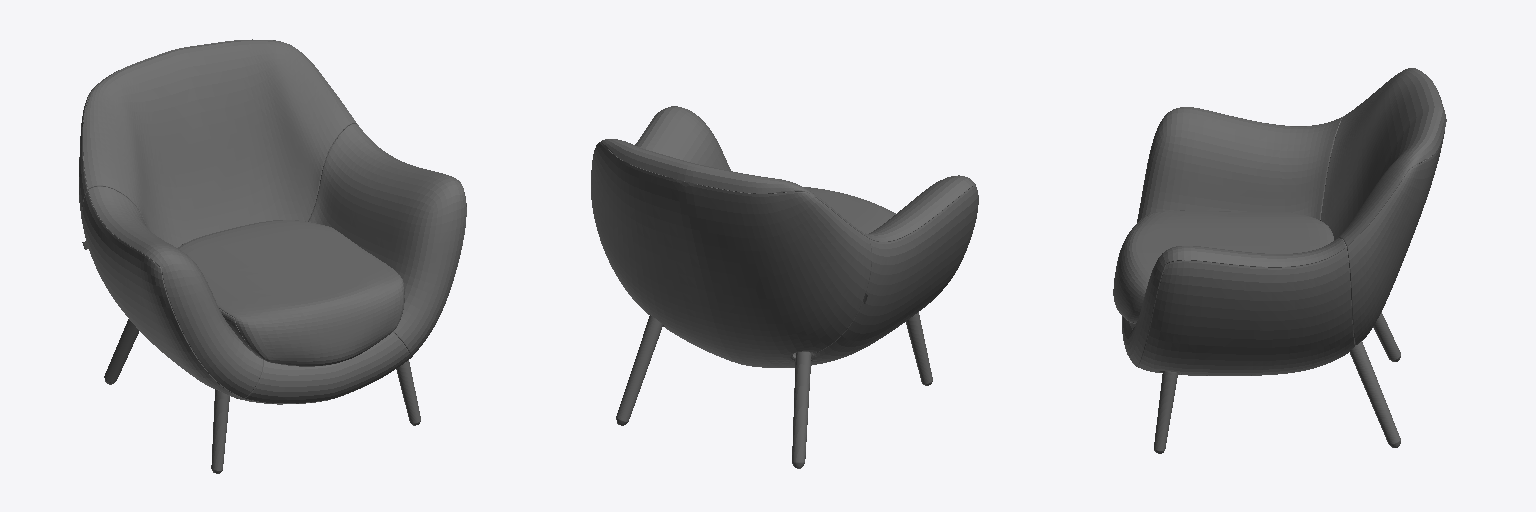
The model's file is MAD_QUEEN_CHAIR.obj.
3 renders of one model, left to right at view 1: azimuth 30°, elevation 25°; view 2: azimuth 150°, elevation 25°; view 3: azimuth 270°, elevation 25°, orthographic.
Visible parts, largest first — view 1: Plane002; view 2: Plane002; view 3: Plane002.
Boxes of the visible parts, <box> form: Plane002: <box>79,39,466,473</box>; Plane002: <box>591,106,978,468</box>; Plane002: <box>1113,68,1446,453</box>.
Size of the model in its own units: 94.95 by 85.84 by 86.98.